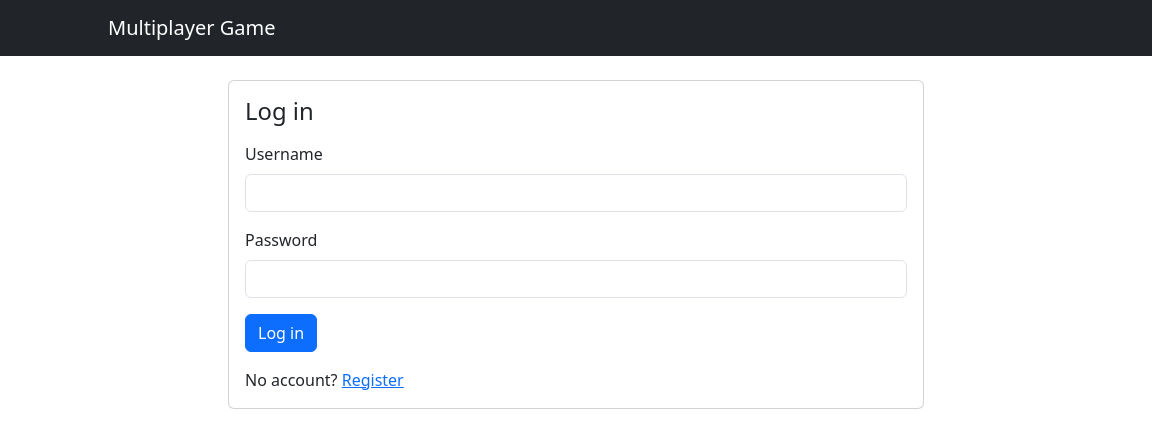
Test case: a successful login sends only the credentials and shows the characters page
The width and height of the screenshot is (1152, 426).
Type "alice" into the field labelled "Username". click: [576, 193]
box: [245,174,907,212]
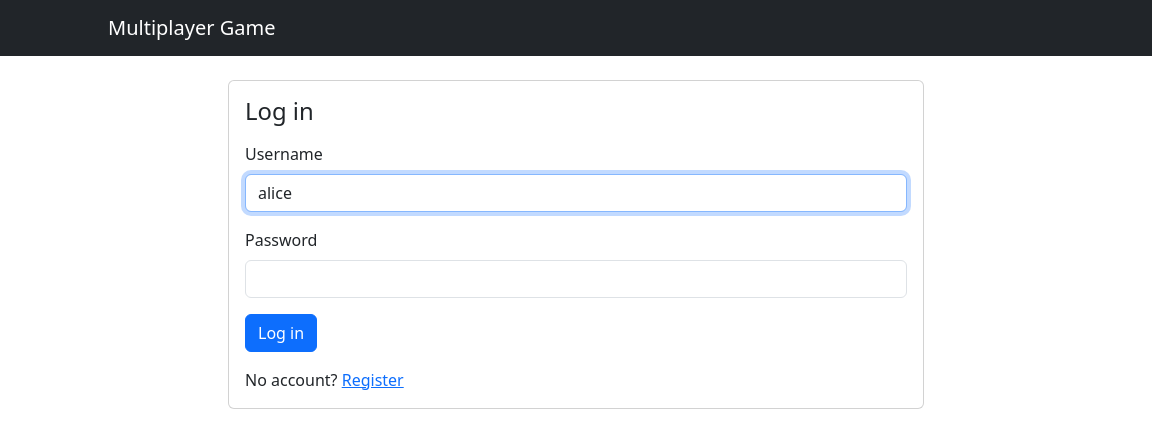
Type "correct-horse-battery" into the password field labelled "Password". click: [576, 279]
box: [245,260,907,298]
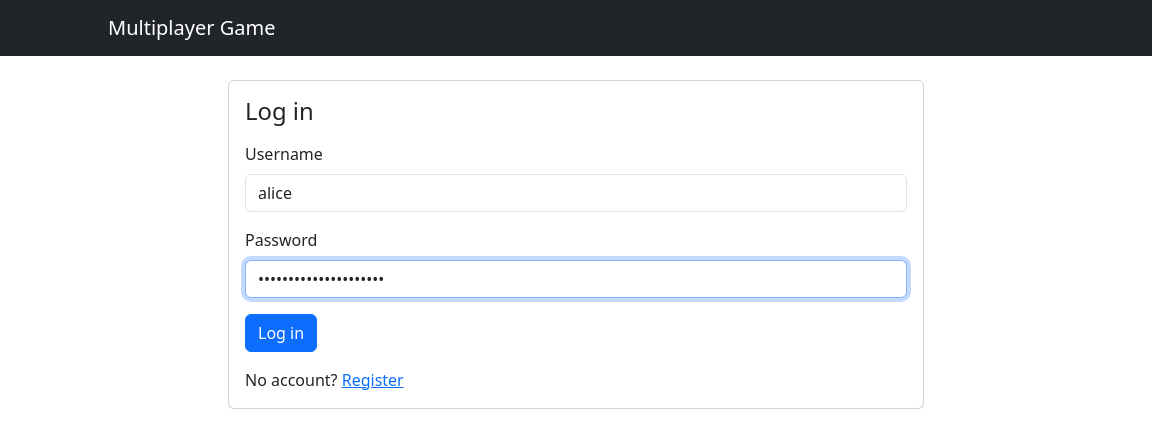
Click the button "Log in". click: [281, 333]
box: [245,314,317,352]
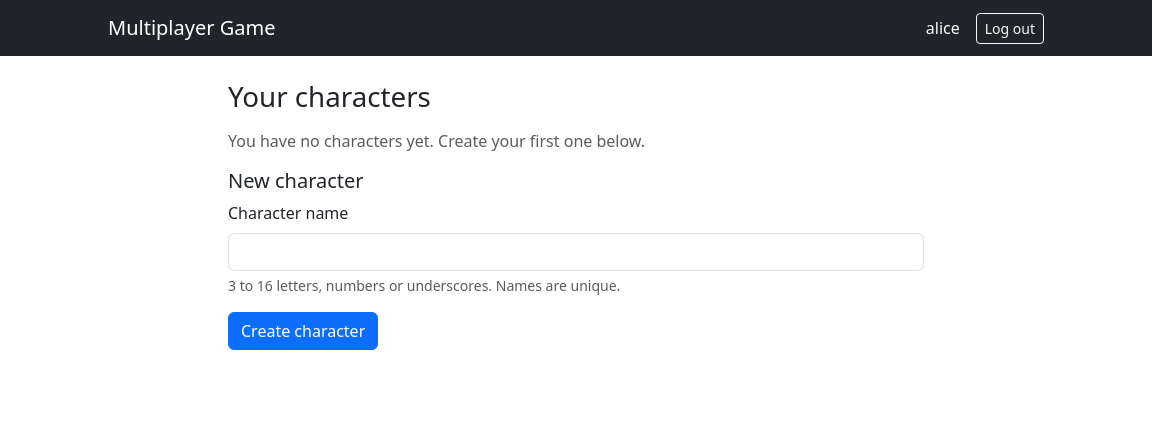
Now the heading "Your characters" is shown, box [228,77,431,115]
